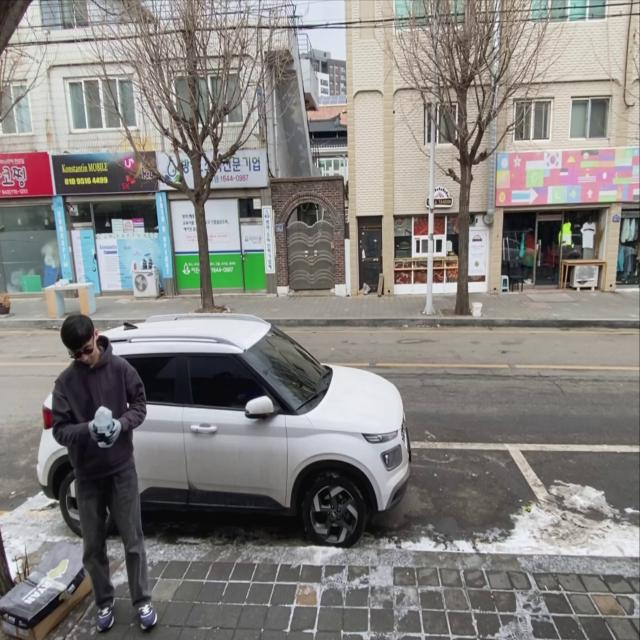gloved_hand: (108, 414, 124, 450), (90, 418, 104, 443)
